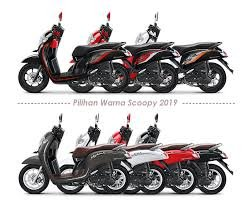motor: (15, 24, 127, 96), (23, 125, 131, 195), (91, 23, 185, 91), (138, 27, 225, 91)
